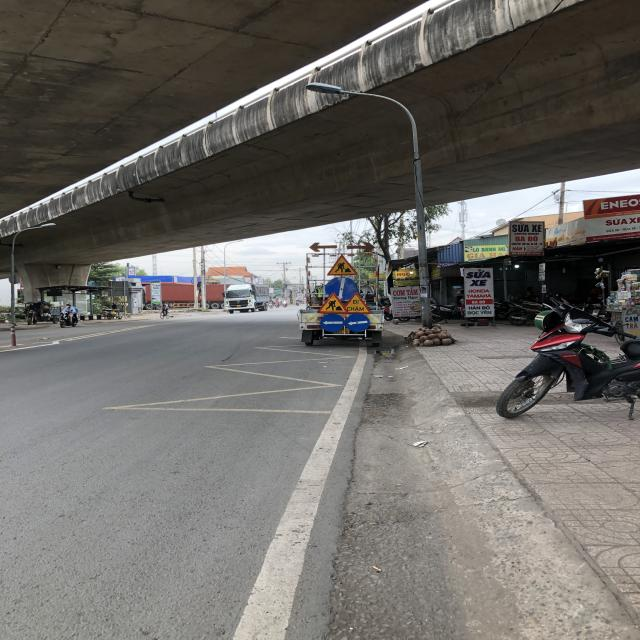Bien bao cong truong: (327, 254, 360, 276), (316, 292, 348, 314)
